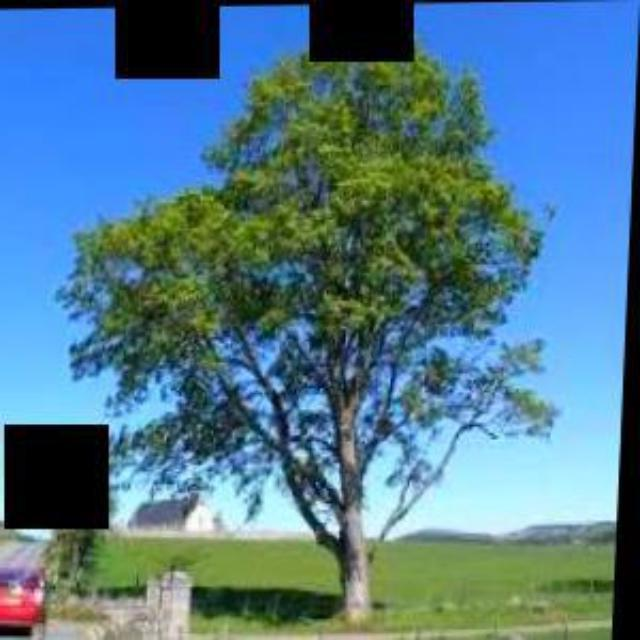tree: (52, 19, 580, 618)
